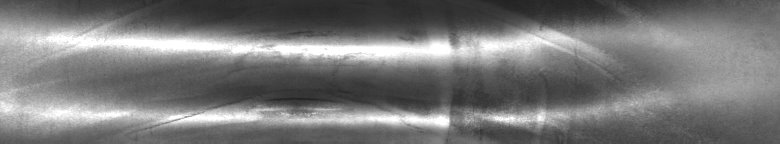ke: (5, 4, 644, 136)
